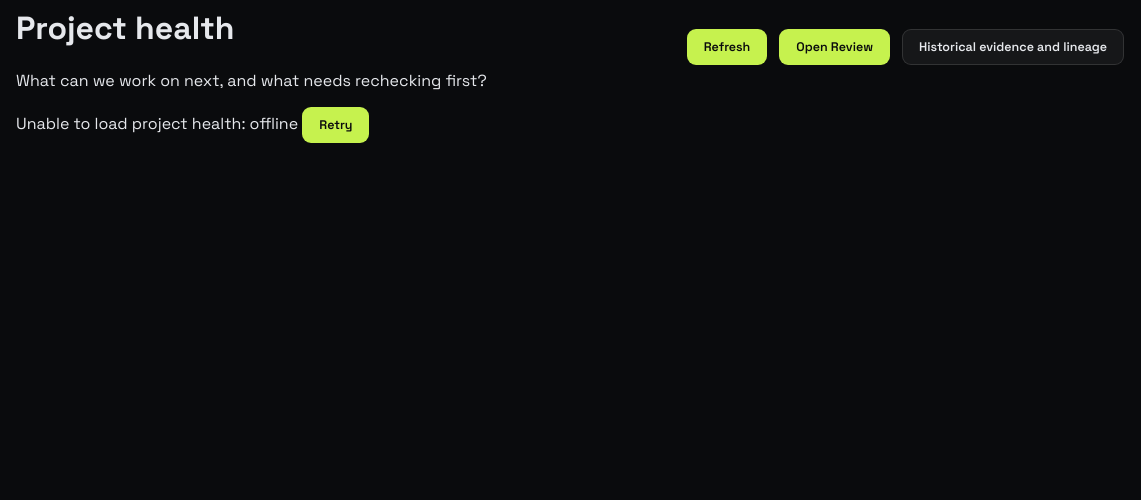
Test: shows load failure and retries without presenting empty health
This screenshot has width=1141, height=500.
Expected: the message "Unable to load project health: offline Retry" is shown, top-left (16, 107), bottom-right (370, 143)
Click the button "Retry": (336, 125) top-left (302, 107), bottom-right (370, 143)
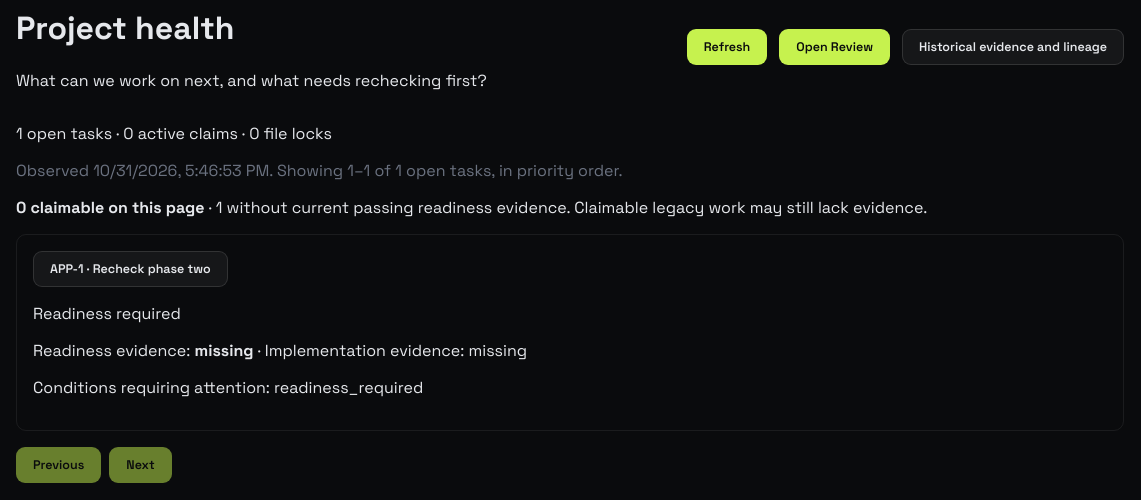
Expected: the text "Recheck phase two" is shown, top-left (33, 251), bottom-right (228, 287)
